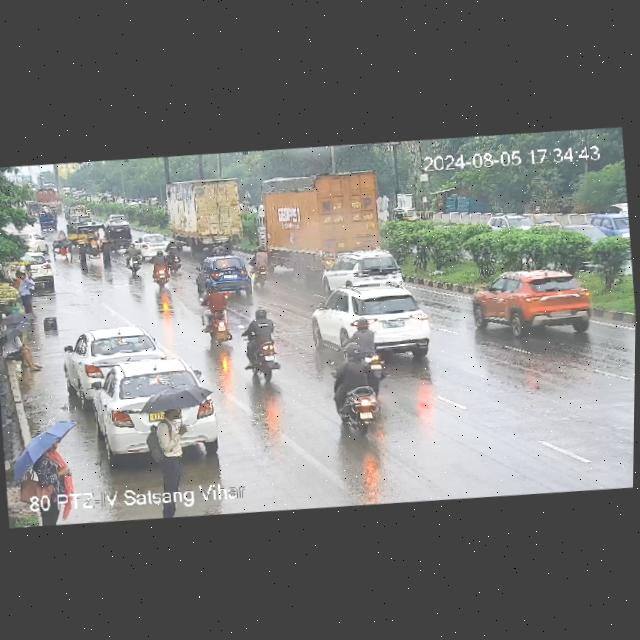car: (316, 275, 444, 363), (87, 357, 214, 441), (472, 260, 600, 337), (63, 323, 165, 391), (324, 247, 404, 291), (194, 252, 253, 298), (0, 250, 52, 287), (585, 209, 630, 239), (103, 221, 136, 256), (486, 210, 528, 233), (19, 230, 48, 256), (138, 232, 168, 257), (51, 229, 73, 262), (526, 210, 564, 229), (36, 206, 62, 230), (392, 207, 423, 226), (63, 220, 88, 242), (101, 212, 128, 225)
motorcycle: (331, 339, 379, 436), (344, 313, 390, 396), (240, 304, 281, 382), (198, 284, 239, 347), (246, 239, 271, 285), (150, 247, 169, 287), (121, 242, 144, 275), (164, 238, 184, 272)
person: (143, 388, 197, 490), (33, 436, 73, 494), (3, 306, 43, 359), (10, 263, 39, 308)
truck: (251, 164, 392, 274), (168, 171, 257, 263), (75, 224, 111, 263), (35, 184, 64, 214), (69, 201, 92, 219)
